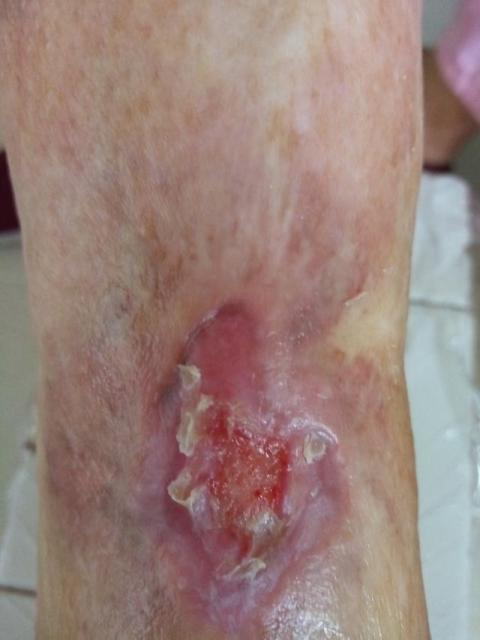wound: (143, 294, 354, 638)
